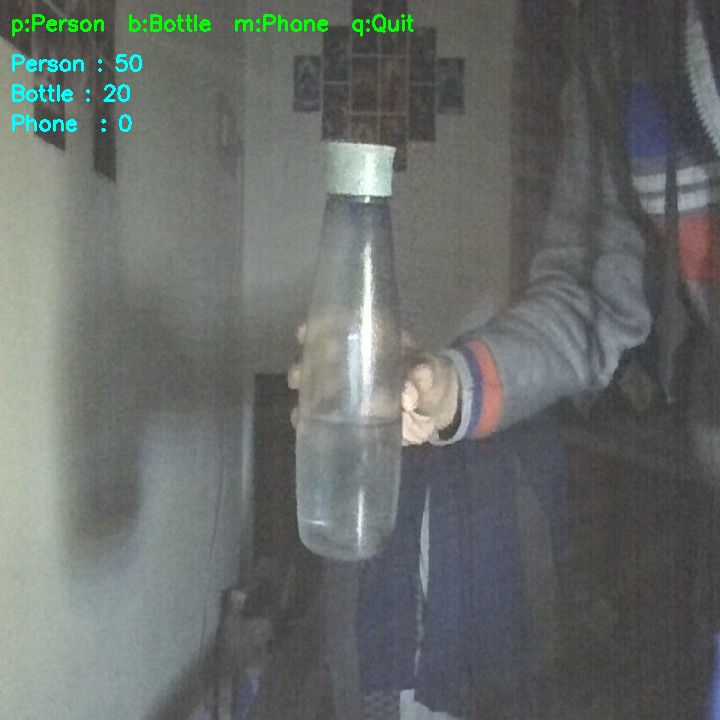bottle: (281, 133, 431, 571)
